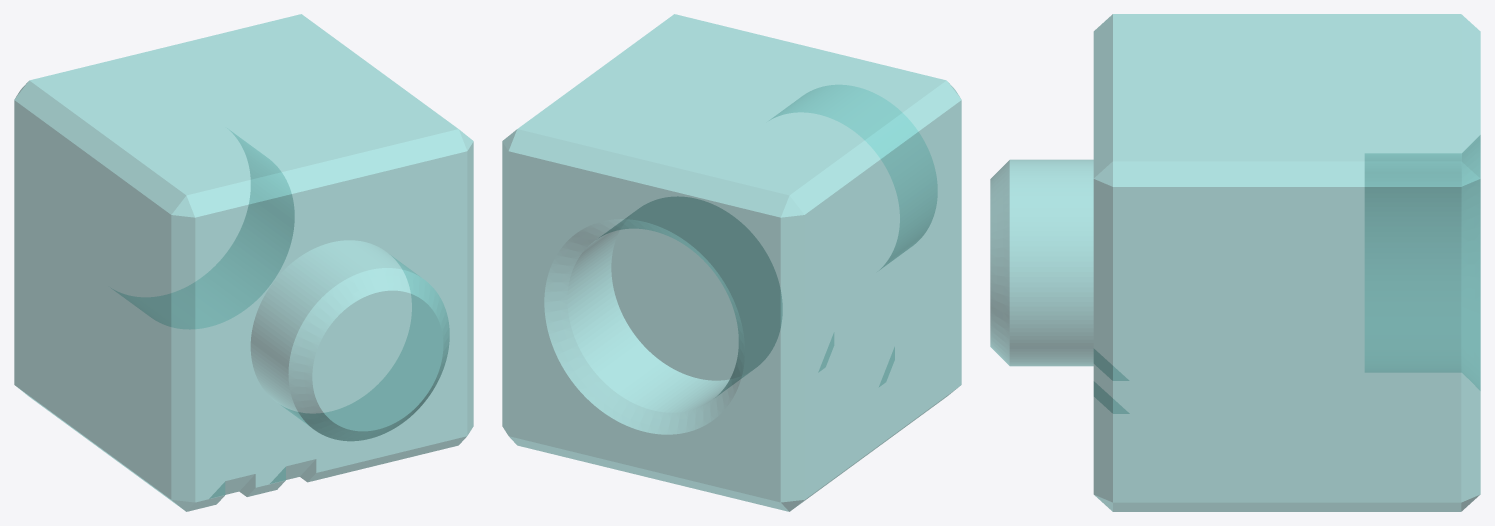
The model's file is coupon-crystal-socket-20@crystal.glb.
The picture shows the model from 3 angles, left to right: view 1: azimuth 30°, elevation 25°; view 2: azimuth 150°, elevation 25°; view 3: azimuth 270°, elevation 25°; orthographic projection. The views are drawn at different scales.
Parts seen in each view (by area): view 1: geometry_0; view 2: geometry_0; view 3: geometry_0.
Boxes of the visible parts, x1,y1,x2,y2 form: geometry_0: (14,14,473,511); geometry_0: (502,14,961,511); geometry_0: (990,14,1480,511).
Bounding box in the file's own units: 6 × 6 × 7.6.
